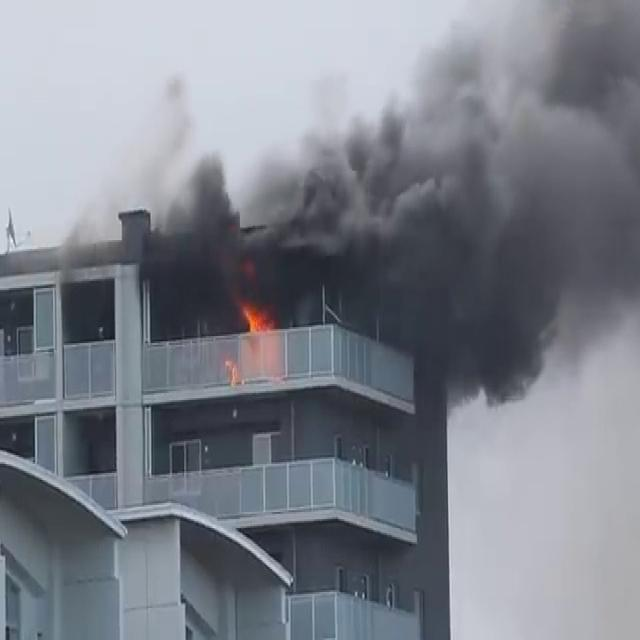Fire: (235, 290, 277, 342)
Smoke: (139, 9, 640, 393)
